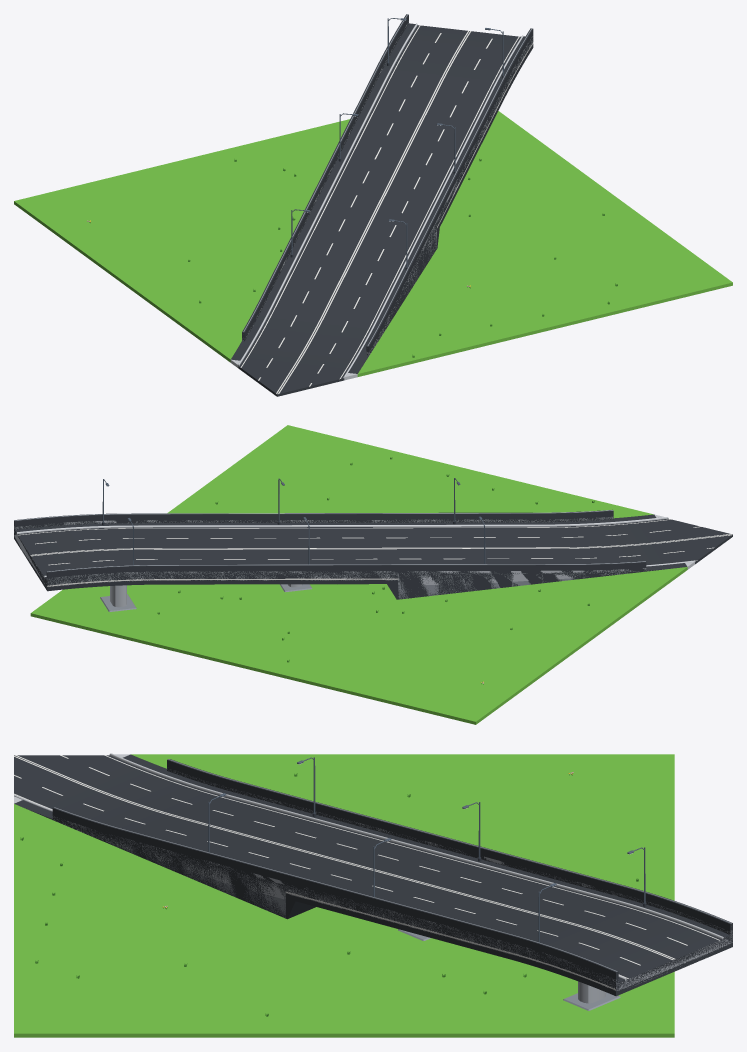
Rendered from ponte_diagonal_cabeceira_avenida.glb.
3 renders of one model, top to bottom at view 1: azimuth 30°, elevation 25°; view 2: azimuth 150°, elevation 25°; view 3: azimuth 270°, elevation 25°, orthographic. The views are drawn at different scales.
Visible parts, largest first — view 1: ponte_diagonal_cabeceira_avenida, colisao_rampa; view 2: ponte_diagonal_cabeceira_avenida, colisao_rampa; view 3: ponte_diagonal_cabeceira_avenida, colisao_rampa.
Part boxes in pixels (<box>): ponte_diagonal_cabeceira_avenida: <box>14,14,732,396</box>; colisao_rampa: <box>231,14,533,373</box>; ponte_diagonal_cabeceira_avenida: <box>14,425,732,724</box>; colisao_rampa: <box>14,509,687,599</box>; ponte_diagonal_cabeceira_avenida: <box>14,753,732,1037</box>; colisao_rampa: <box>14,754,732,996</box>.
Size of the model in its own units: 65.31 by 13.5 by 65.31.
2 materials, 1 textured.
